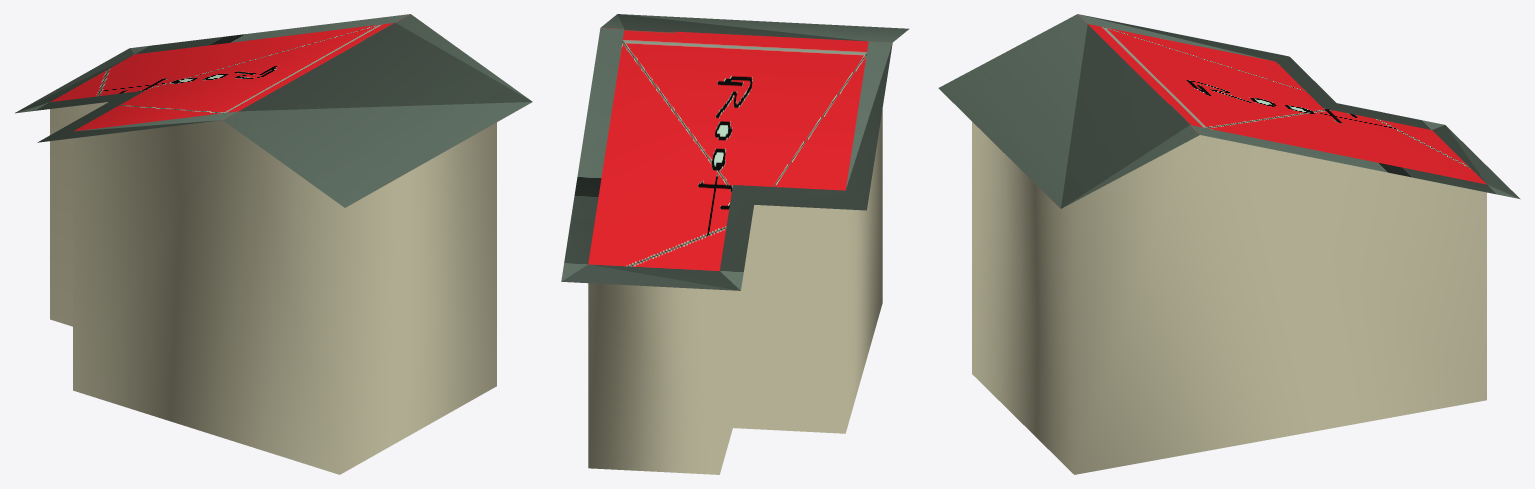
File: texturized_model.dae
3 renders of one model, left to right at view 1: azimuth 30°, elevation 25°; view 2: azimuth 150°, elevation 25°; view 3: azimuth 270°, elevation 25°, orthographic. The views are drawn at different scales.
Visible parts, largest first — view 1: Object.001; view 2: Object.001; view 3: Object.001.
Part boxes in pixels (x1=…): Object.001: x1=15, y1=14, x2=532, y2=474; Object.001: x1=561, y1=14, x2=909, y2=474; Object.001: x1=938, y1=14, x2=1520, y2=474.
Bounding box in the file's own units: 12.78 × 17.05 × 10.63.
2 materials, 1 textured.
